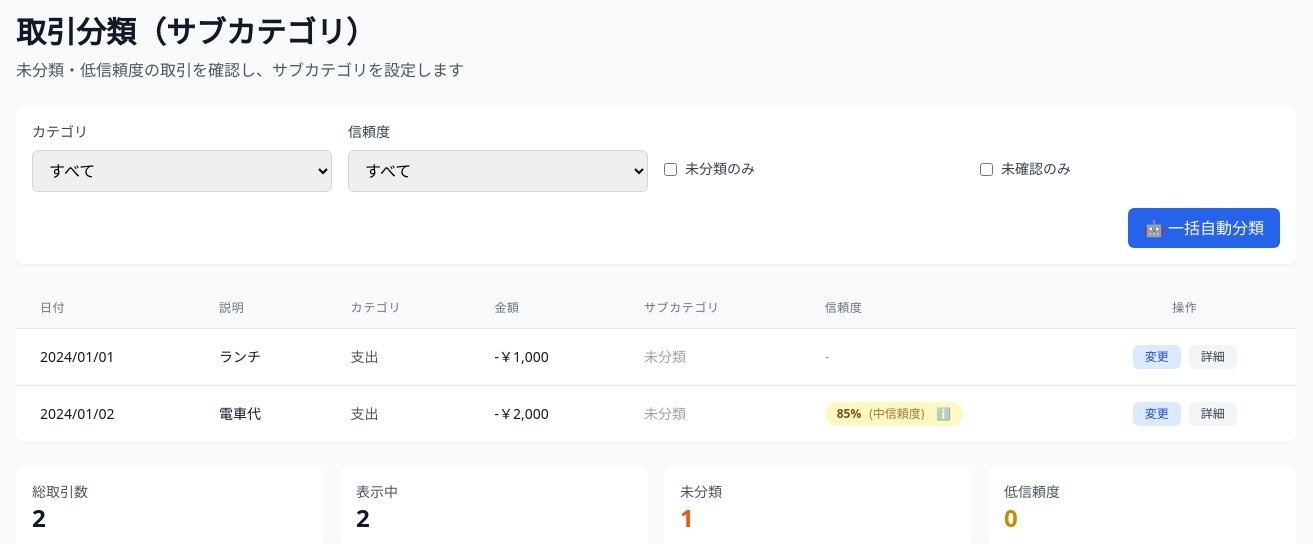
TransactionClassificationPage › フィルタリング機能 › 未分類のみフィルターが機能する
Expected: the text "ランチ" is shown, x1=195 y1=328 x2=327 y2=386
What coordinates should you click on to do the following:
click the checkbox labelled "未分類のみ"
I would click on:
 (670, 169)
Its box is x1=664 y1=162 x2=677 y2=176.
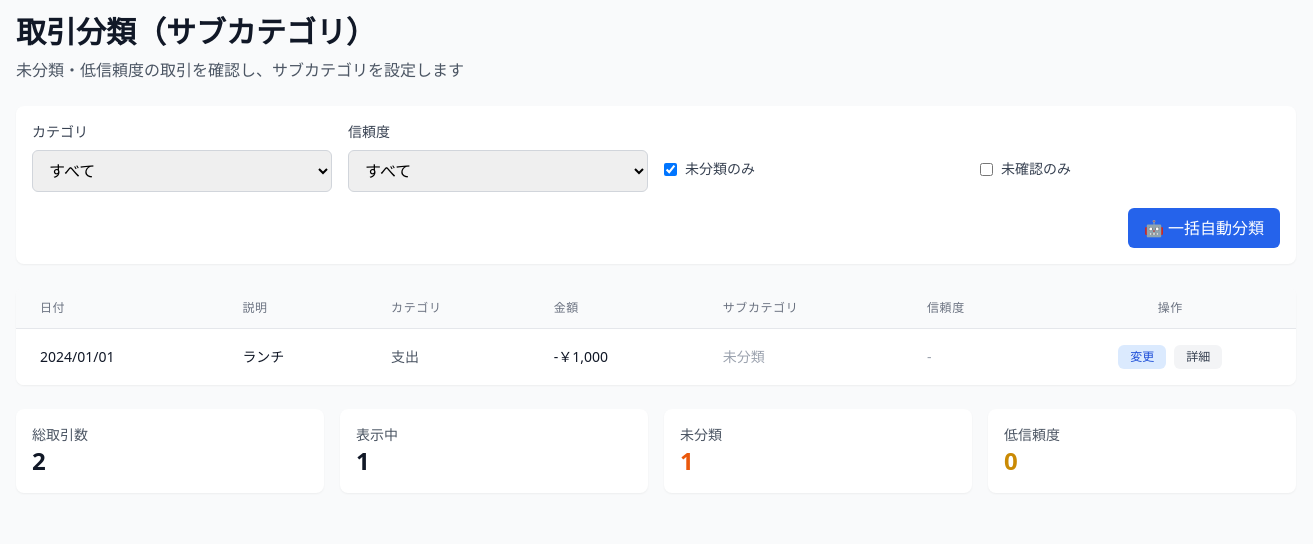
Expected: the text "ランチ" is shown, x1=218 y1=328 x2=367 y2=385
Expected: the text "電車代" is gone
